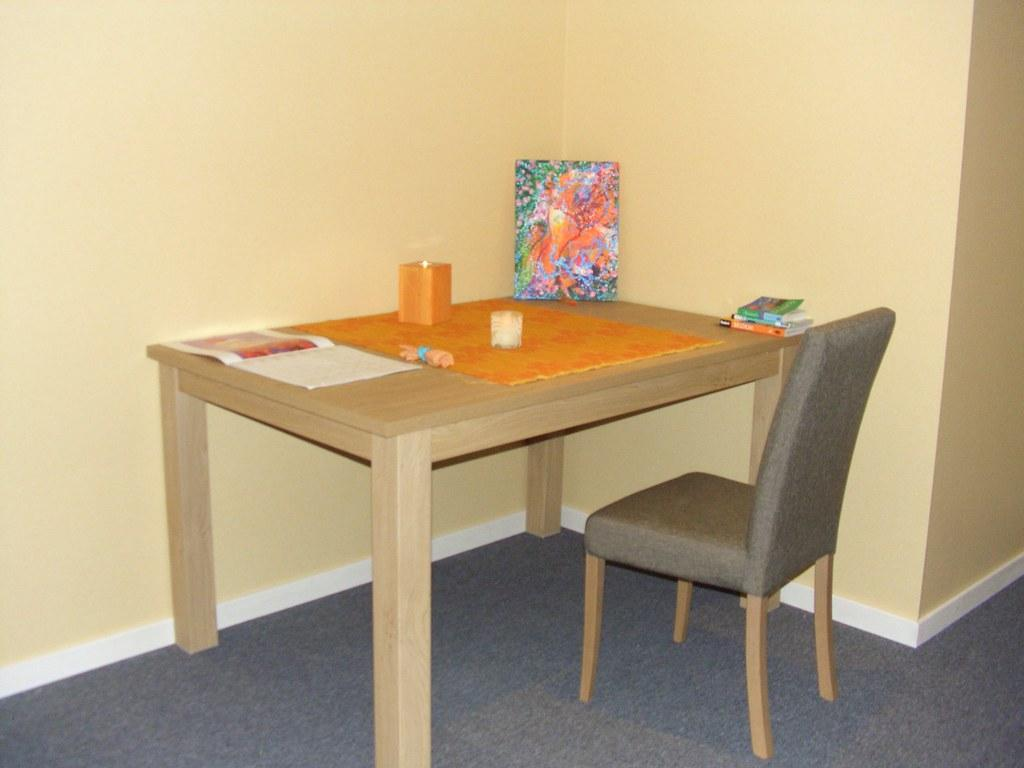table: (146, 293, 813, 767)
